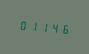four: (48, 20, 57, 35)
one: (28, 18, 37, 33), (38, 19, 47, 34)
six: (58, 21, 67, 35)
zero: (18, 17, 27, 32)
